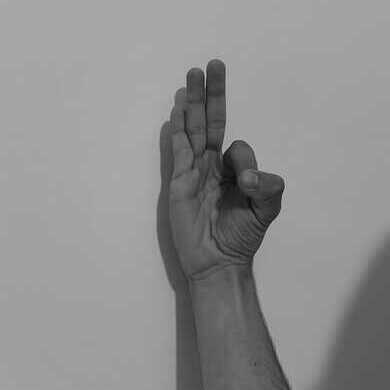F: (166, 55, 287, 281)
